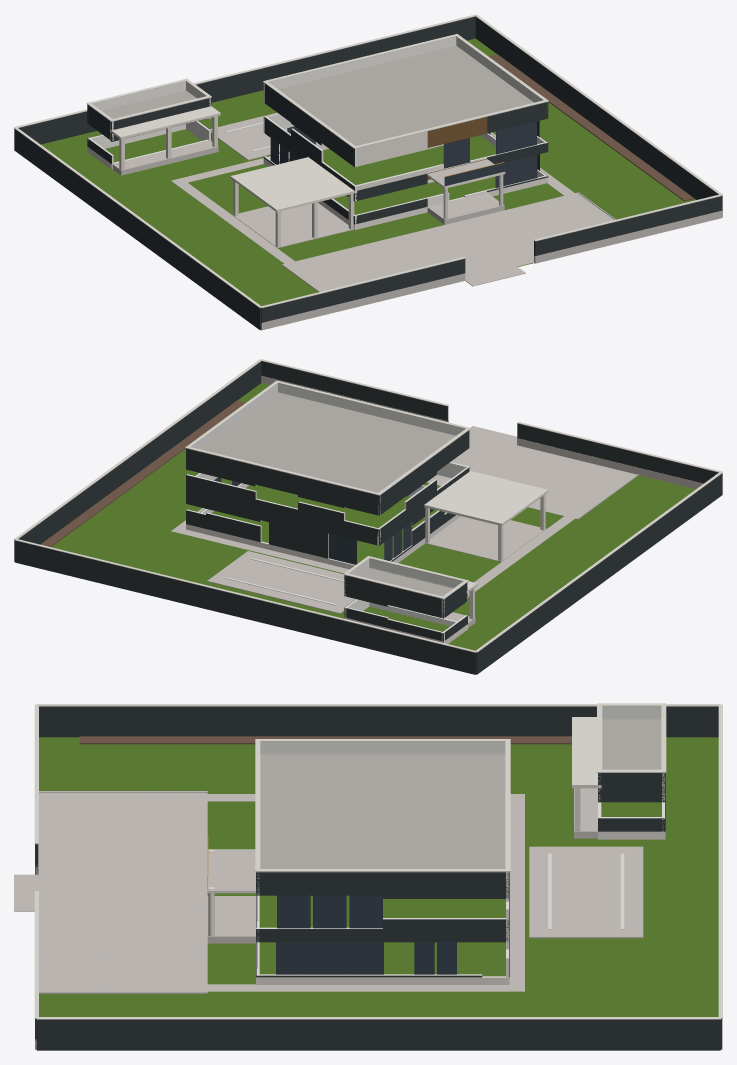
File: est_S6_lod1.glb
The picture shows the model from 3 angles, top to bottom: view 1: azimuth 30°, elevation 25°; view 2: azimuth 150°, elevation 25°; view 3: azimuth 270°, elevation 25°; orthographic projection. The views are drawn at different scales.
Parts seen in each view (by area): view 1: GR_est_S6_lod1; view 2: GR_est_S6_lod1; view 3: GR_est_S6_lod1.
Boxes of the visible parts, x1,y1,x2,y2 form: GR_est_S6_lod1: (14,14,722,330); GR_est_S6_lod1: (14,359,722,674); GR_est_S6_lod1: (14,703,722,1050).
Size of the model in its own units: 52.31 by 10.33 by 49.76.
Materials: 3 (1 with a texture image).
